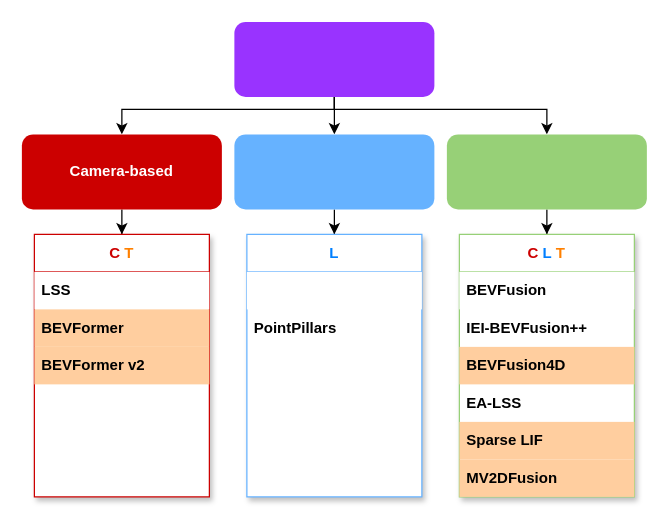
The diagram is 668 pixels wide and 528 high, and some of its shapes have lost their labels. The shapes that lost their labels are listed below. From the top down, each one's centre as x and y in pixels, then its label:
At point (334, 58): "BEV 3D Object Detection".
At point (334, 171): "LiDAR-based".
At point (546, 171): "Multimodal-based".
At point (333, 290): "VoxelNet".
